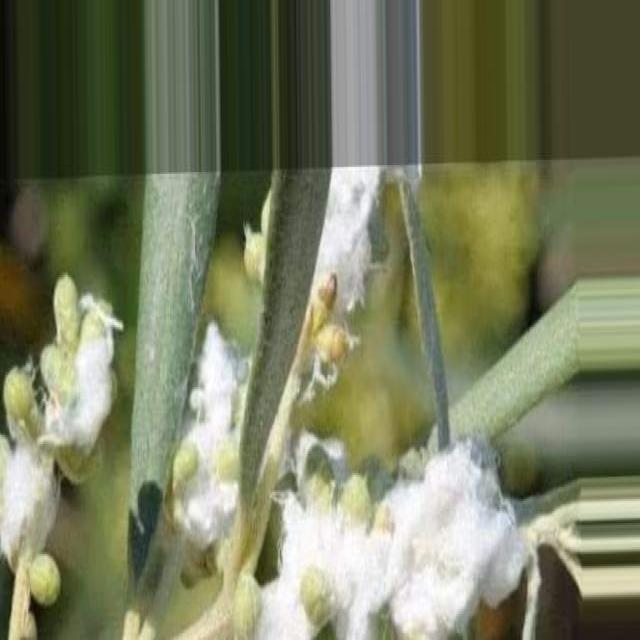Psyllid: (255, 432, 527, 638), (0, 274, 123, 638), (172, 322, 251, 582), (310, 167, 383, 349)
